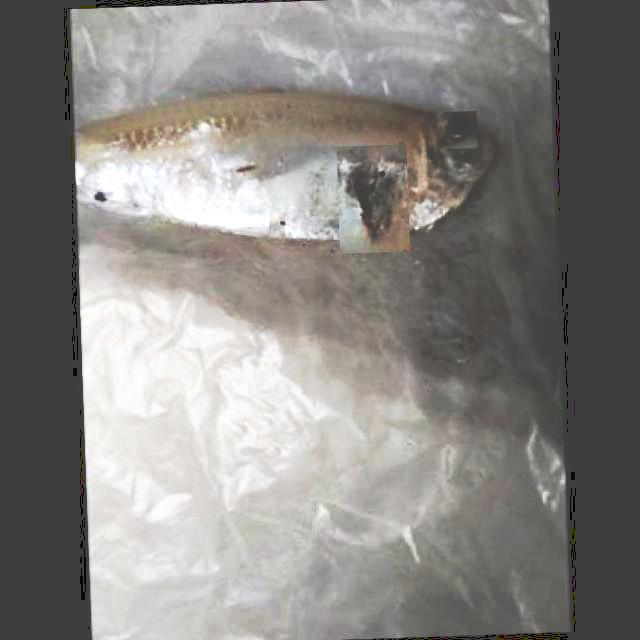Aeromonas Septicemia: (74, 91, 503, 243)
